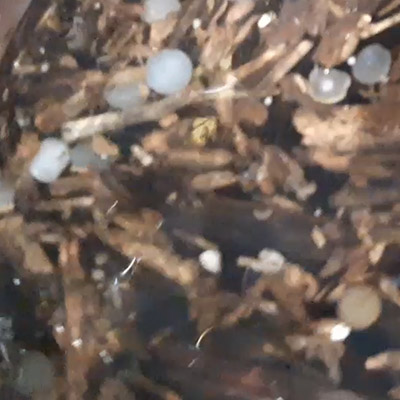nurdle: (141, 48, 194, 95), (332, 284, 385, 331), (26, 137, 74, 186), (303, 66, 354, 106), (345, 45, 393, 85), (101, 76, 151, 111), (139, 1, 184, 26)
